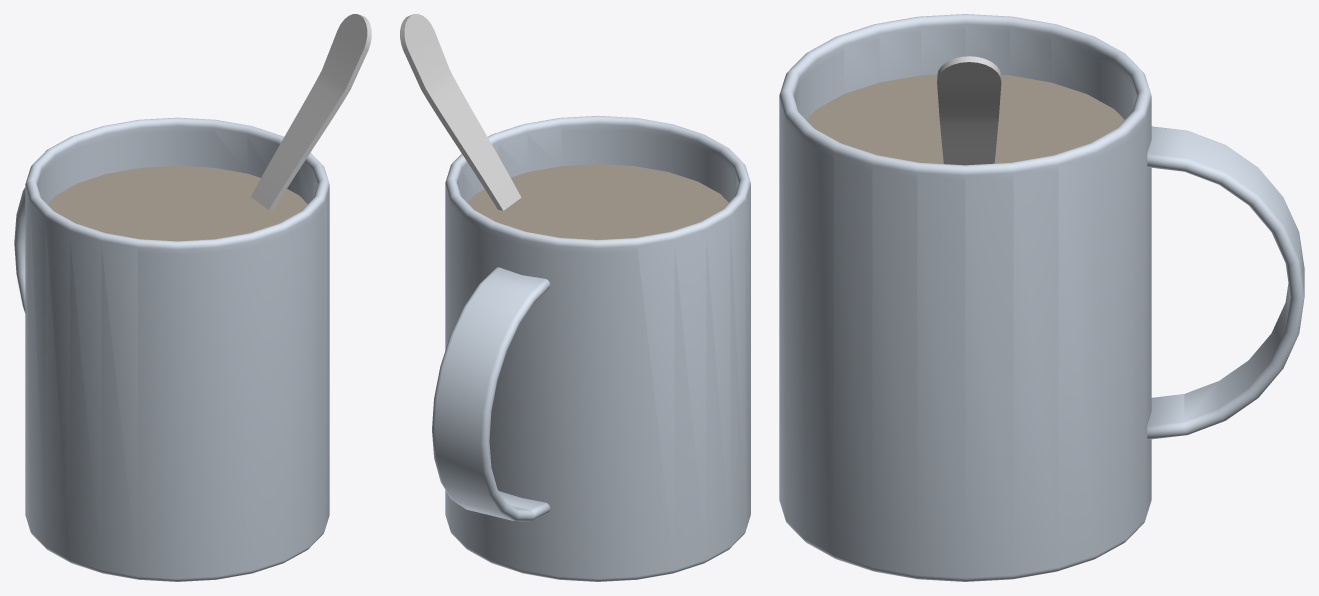
The picture shows the model from 3 angles, left to right: view 1: azimuth 30°, elevation 25°; view 2: azimuth 150°, elevation 25°; view 3: azimuth 270°, elevation 25°; orthographic projection. The views are drawn at different scales.
Visible parts, largest first — view 1: mesh2_mesh2-geometry, mesh2_mesh2-geometry_1, mesh3_mesh3-geometry, mesh1_mesh1-geometry; view 2: mesh2_mesh2-geometry, mesh1_mesh1-geometry, mesh2_mesh2-geometry_1, mesh3_mesh3-geometry; view 3: mesh2_mesh2-geometry, mesh2_mesh2-geometry_1, mesh1_mesh1-geometry, mesh3_mesh3-geometry.
Part boxes in pixels (<box>): mesh2_mesh2-geometry: <box>25,117,329,581</box>; mesh2_mesh2-geometry_1: <box>47,165,307,241</box>; mesh3_mesh3-geometry: <box>251,14,371,209</box>; mesh1_mesh1-geometry: <box>14,187,25,313</box>; mesh2_mesh2-geometry: <box>445,115,750,581</box>; mesh1_mesh1-geometry: <box>432,267,550,521</box>; mesh2_mesh2-geometry_1: <box>467,164,728,239</box>; mesh3_mesh3-geometry: <box>400,14,521,210</box>; mesh2_mesh2-geometry: <box>779,14,1151,581</box>; mesh2_mesh2-geometry_1: <box>806,74,1124,163</box>; mesh1_mesh1-geometry: <box>1147,126,1304,439</box>; mesh3_mesh3-geometry: <box>937,56,1001,165</box>.
Bounding box in the file's own units: 0.4883 × 0.6647 × 0.5654.
